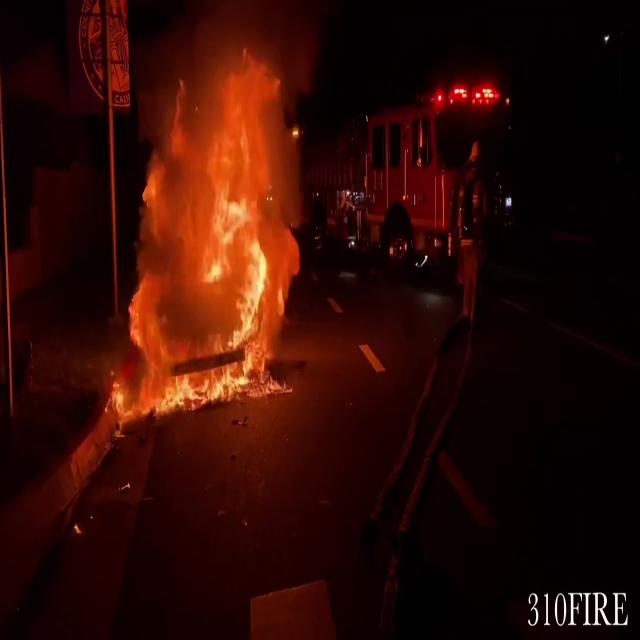Fire: (102, 45, 308, 422)
